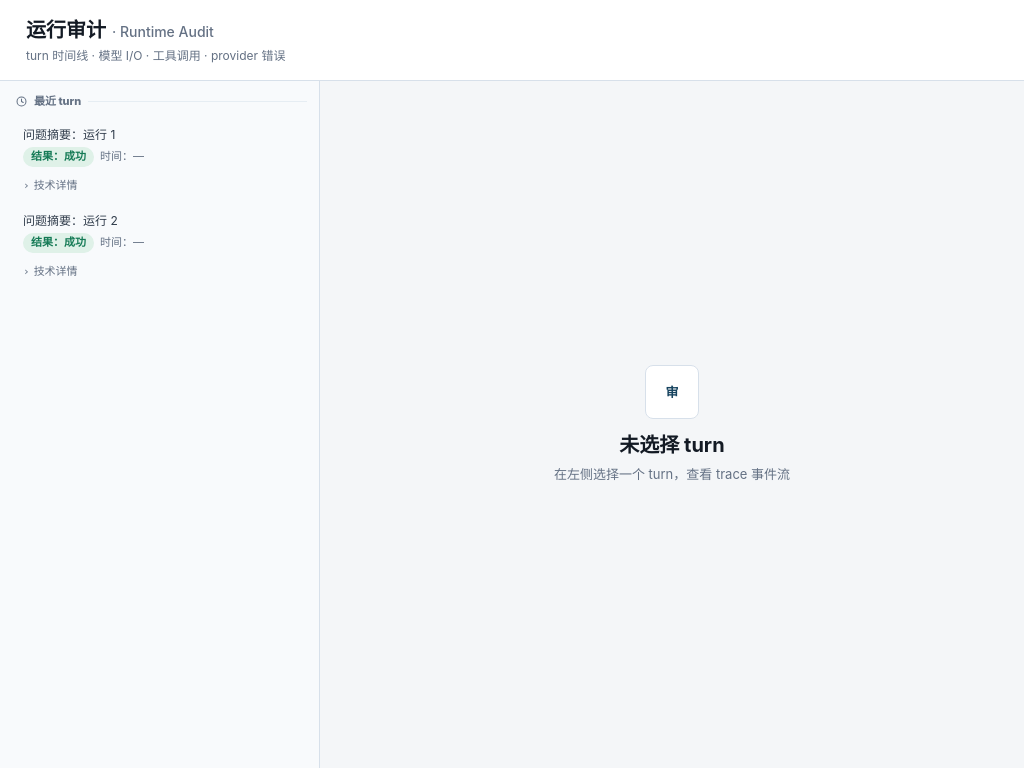
Test: Experience polish › uses run ids to select audit runs with blank turn ids
Click the button with test id "turn-run-a". click: (53, 134)
box: [12,118,307,202]
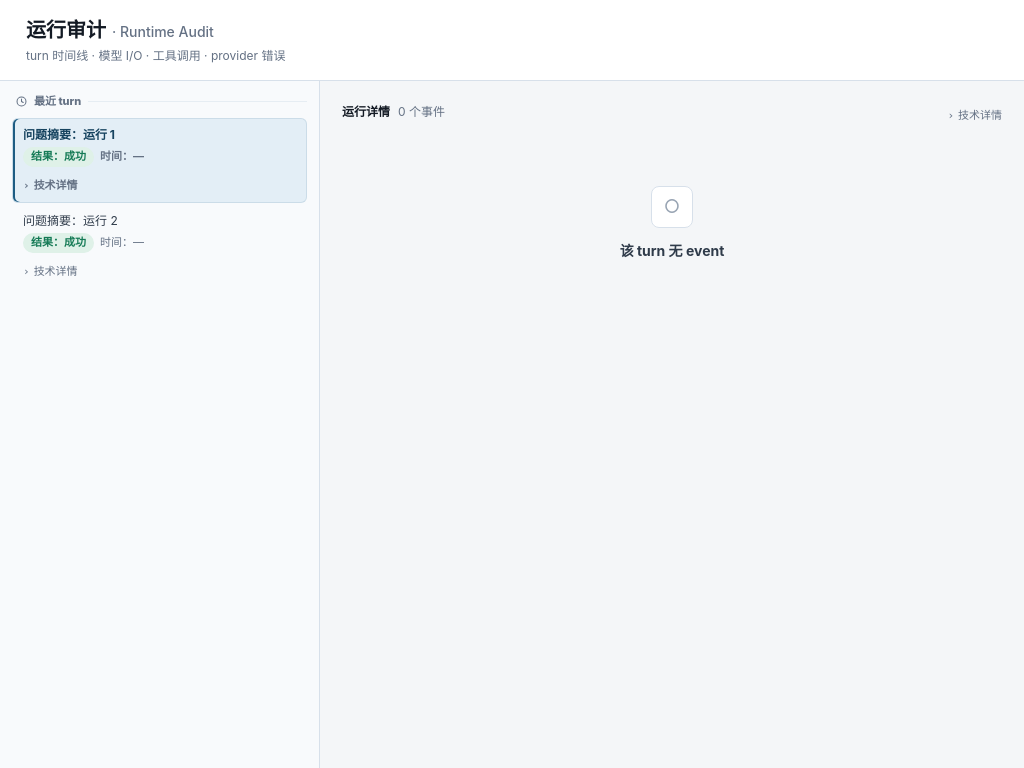
Expected: the number of buttons with class "list-item" is 1, [12,118,307,202]
Result: the text "该 turn 无 event" is shown at [620,240,724,262]
